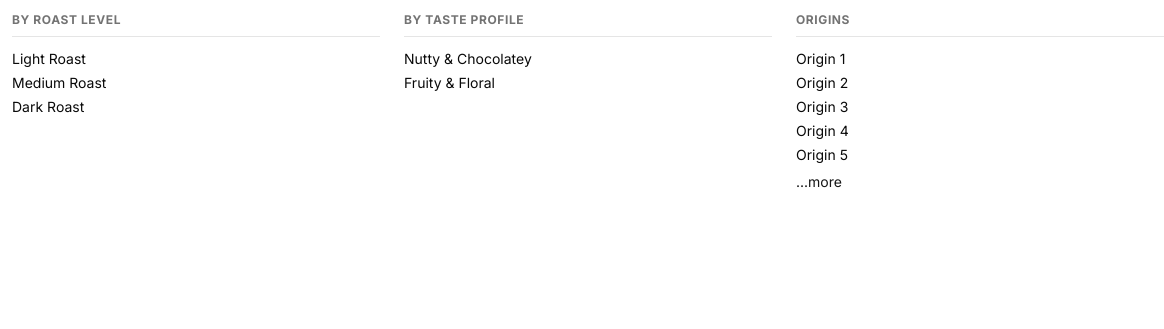
CategoryMenuColumns › Accessibility › sets proper aria-expanded on expand/collapse buttons
Click to expand
Step 1. Click the button with aria-label "Show more categories in ORIGINS" → (819, 182), box [796, 172, 842, 192]
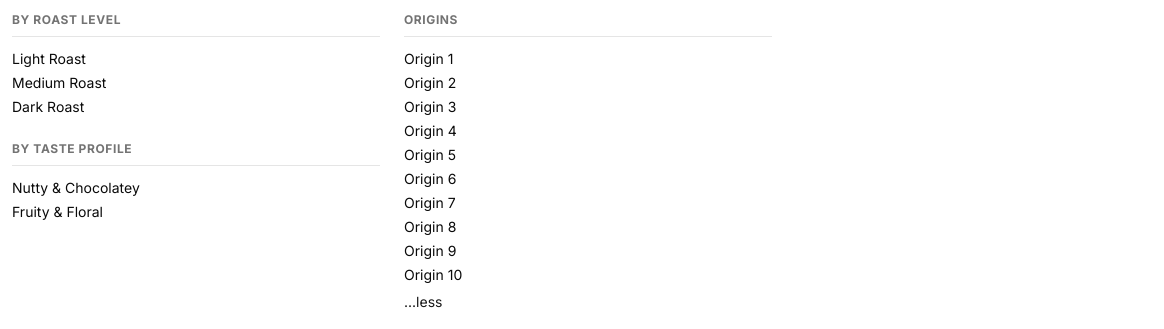
Expected: the button with aria-label "Show less categories in ORIGINS" is expanded, [404, 292, 442, 312]
